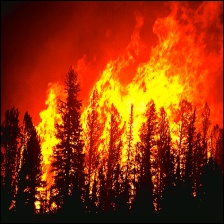fire: (13, 8, 216, 202)
